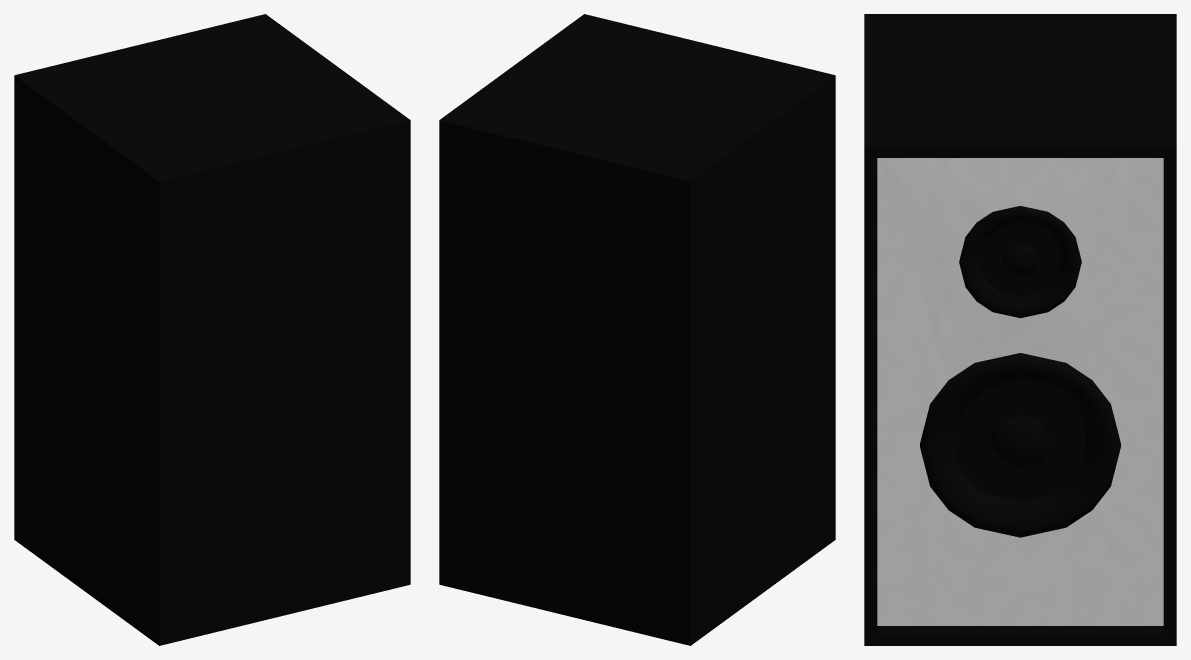
Rendered from speaker.fbx.
The picture shows the model from 3 angles, left to right: view 1: azimuth 30°, elevation 25°; view 2: azimuth 150°, elevation 25°; view 3: azimuth 270°, elevation 25°; orthographic projection. The views are drawn at different scales.
Parts seen in each view (by area): view 1: Cube; view 2: Cube; view 3: Cube.
Part boxes in pixels (x1,y1,x2,y2): Cube: [14, 14, 410, 645]; Cube: [439, 14, 835, 645]; Cube: [864, 14, 1176, 645].
Size of the model in its own units: 200 by 353 by 200.
